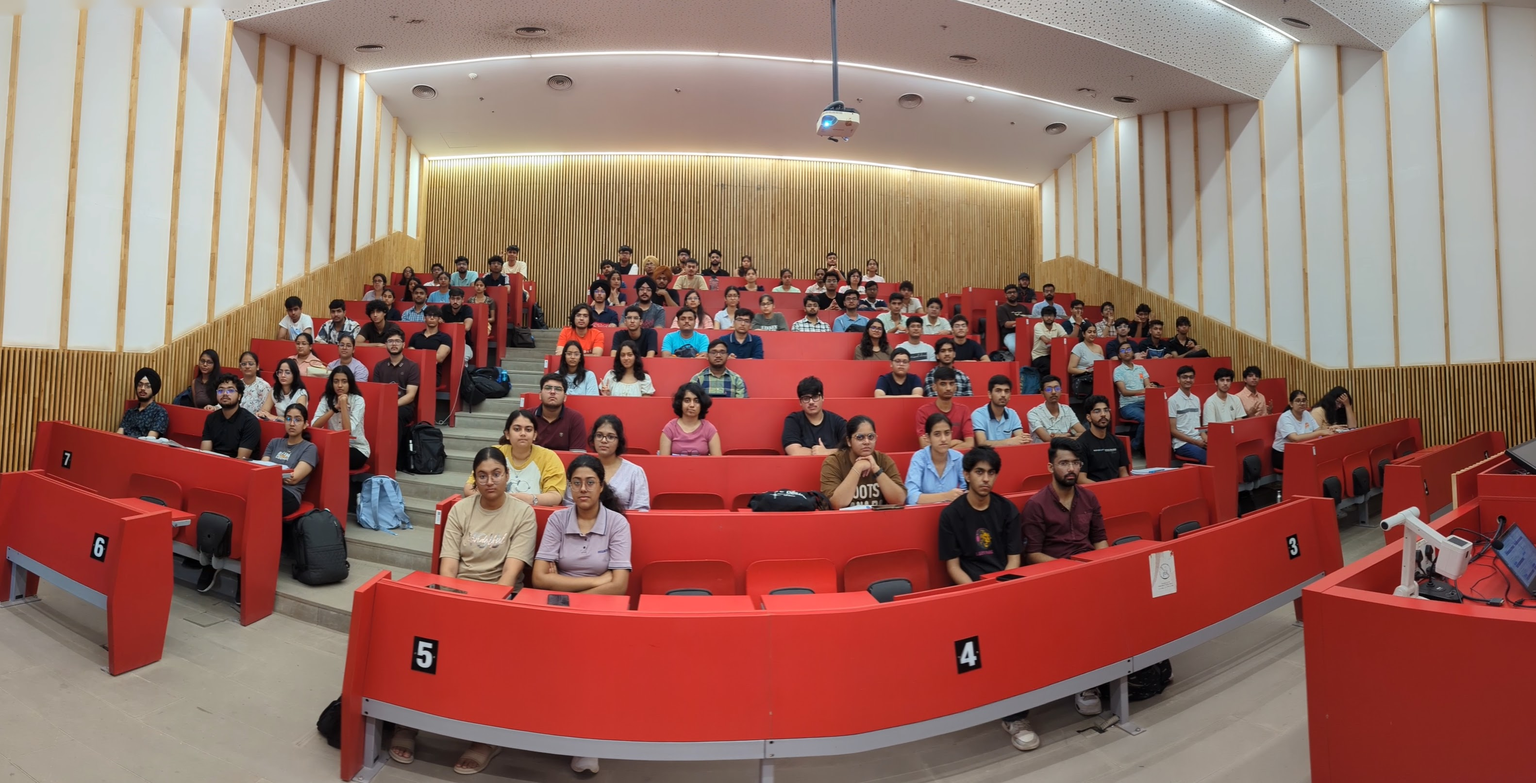student_face: (468, 457, 507, 505), (567, 461, 600, 510), (670, 383, 704, 421), (800, 381, 831, 418), (969, 453, 997, 492), (850, 418, 876, 457), (930, 418, 956, 454), (1053, 450, 1078, 485), (543, 377, 564, 416), (512, 410, 531, 452), (597, 421, 617, 455), (131, 374, 156, 400), (990, 382, 1010, 412), (900, 315, 924, 338), (283, 295, 305, 320), (216, 385, 238, 408), (1088, 405, 1110, 428), (333, 373, 351, 399), (366, 303, 386, 326), (282, 410, 303, 431), (640, 254, 661, 274), (1288, 393, 1309, 413), (387, 337, 406, 359), (1175, 370, 1194, 392), (1001, 281, 1018, 305), (891, 355, 909, 377), (623, 349, 643, 368), (448, 292, 466, 313), (1076, 327, 1099, 343), (614, 246, 634, 264), (198, 355, 216, 375), (561, 345, 581, 363), (1043, 383, 1061, 403), (842, 295, 863, 312), (336, 345, 355, 363), (1117, 346, 1137, 363), (939, 377, 959, 394), (711, 342, 723, 369), (574, 311, 593, 328), (239, 358, 253, 381), (329, 303, 345, 323), (278, 367, 293, 388), (1044, 284, 1061, 302), (296, 340, 314, 357), (624, 319, 642, 336), (863, 258, 882, 274), (757, 297, 775, 313), (1136, 305, 1152, 323), (1216, 376, 1234, 392), (844, 270, 863, 285), (1114, 323, 1133, 338), (636, 290, 657, 303), (867, 327, 884, 343), (938, 346, 955, 362), (950, 327, 967, 343), (1040, 309, 1056, 326), (1327, 393, 1345, 408), (681, 264, 700, 278), (705, 248, 719, 267), (804, 301, 818, 320), (508, 245, 520, 267), (595, 261, 615, 274), (654, 272, 669, 289), (1097, 303, 1114, 318), (425, 312, 442, 327), (680, 312, 697, 327), (732, 312, 749, 327), (1018, 274, 1032, 292), (725, 287, 737, 307), (490, 259, 503, 277), (473, 279, 484, 300), (434, 274, 450, 288), (588, 292, 604, 306), (681, 292, 697, 306), (457, 258, 470, 275), (1150, 325, 1165, 339), (1246, 375, 1261, 389), (375, 288, 394, 299), (742, 269, 758, 282), (897, 281, 910, 297), (821, 278, 838, 290), (424, 259, 439, 272), (781, 272, 794, 287), (608, 278, 624, 290), (1072, 302, 1084, 318), (889, 299, 903, 312), (1176, 321, 1190, 334), (400, 264, 412, 279), (931, 299, 939, 321), (366, 276, 383, 285), (674, 248, 688, 258), (863, 287, 877, 297), (415, 290, 426, 302), (403, 283, 417, 292), (737, 256, 751, 265), (823, 256, 836, 265), (815, 269, 826, 279)
